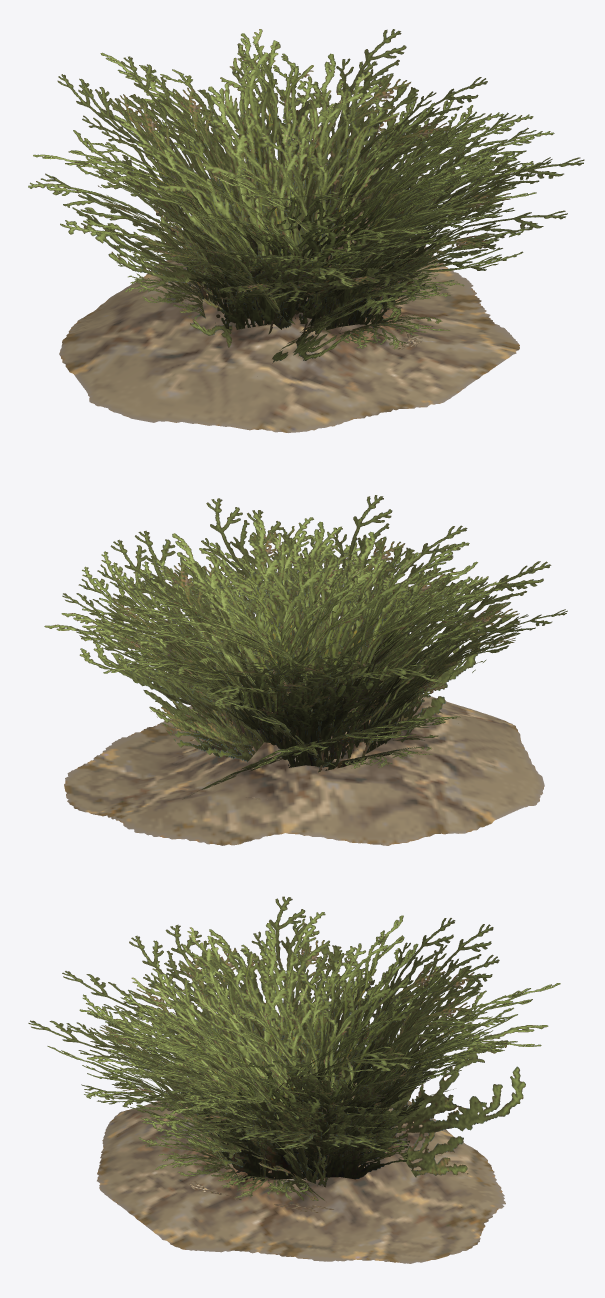
The model's file is sm_cao_1.FBX.
3 views of the same model, one above another, from view 1: azimuth 30°, elevation 25°; view 2: azimuth 150°, elevation 25°; view 3: azimuth 270°, elevation 25° (orthographic). The views are drawn at different scales.
Parts seen in each view (by area): view 1: sm_cao_1; view 2: sm_cao_1; view 3: sm_cao_1.
Part boxes in pixels (left/top/right/bottom): sm_cao_1: left=28, top=29, right=584, bottom=432; sm_cao_1: left=44, top=495, right=567, bottom=845; sm_cao_1: left=28, top=896, right=560, bottom=1263.
Bounding box in the file's own units: 3196 × 1646 × 3460.
